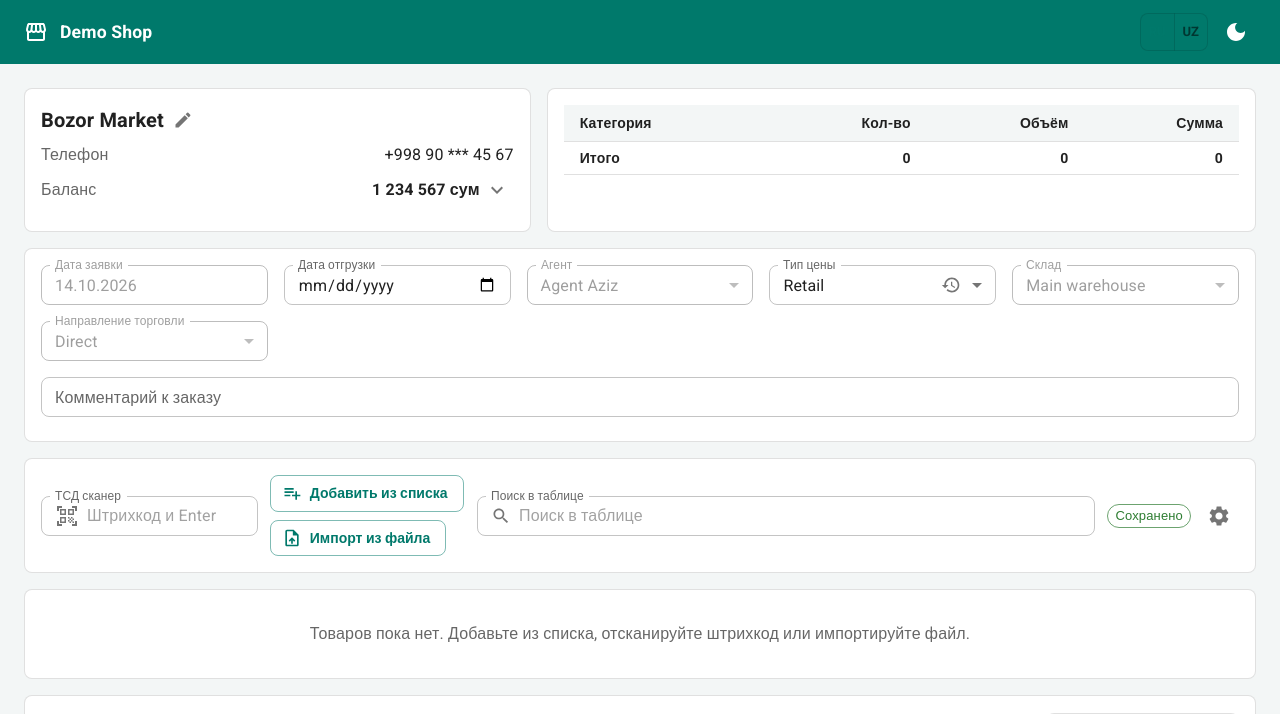
it: shop orders list › order screen: balance breakdown expands and last price type button uses /me
Click the button named "Баланс по типам оплаты" at (497, 190), box [480,173,514,207]
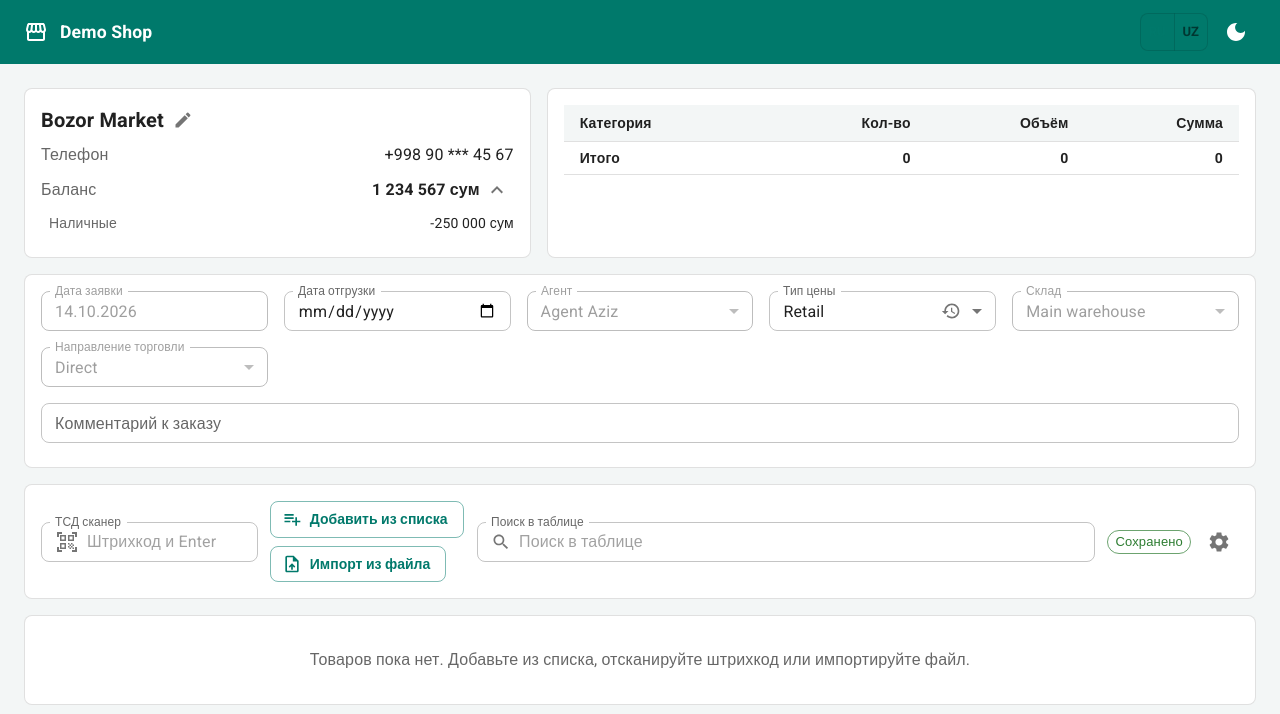
Expected: the button named "Последний использованный тип цены" is shown, [936,296,966,326]
Expected: the text "Наличные" is shown, [49,213,117,233]
